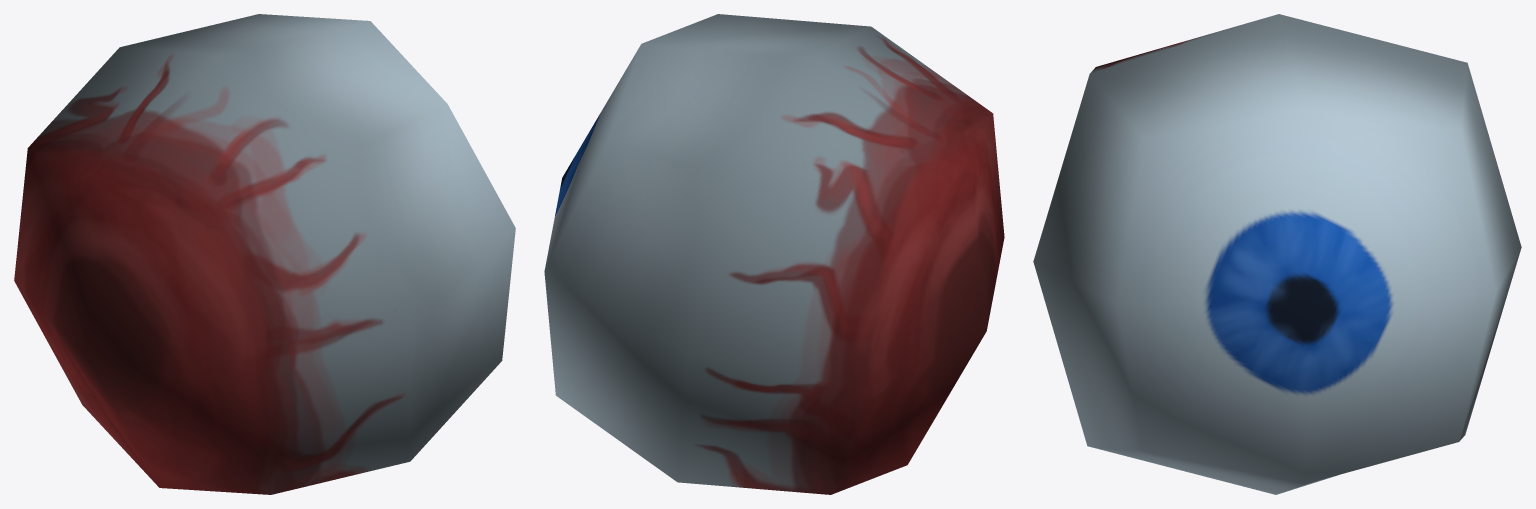
Rendered from eye.fbx.
The picture shows the model from 3 angles, left to right: view 1: azimuth 30°, elevation 25°; view 2: azimuth 150°, elevation 25°; view 3: azimuth 270°, elevation 25°; orthographic projection. The views are drawn at different scales.
Visible parts, largest first — view 1: eye; view 2: eye; view 3: eye.
Boxes of the visible parts, x1,y1,x2,y2 form: eye: (14, 14, 515, 494); eye: (544, 14, 1004, 494); eye: (1033, 14, 1521, 494).
Bounding box in the file's own units: 0.3074 × 0.311 × 0.314.
